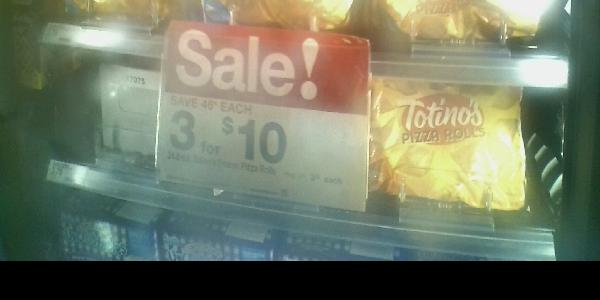icecream: (366, 75, 545, 213)
